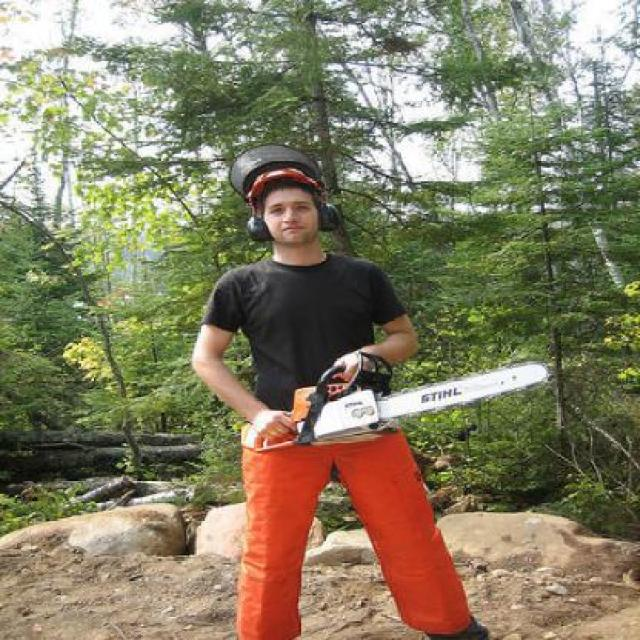Chainsaw: (242, 351, 549, 457)
